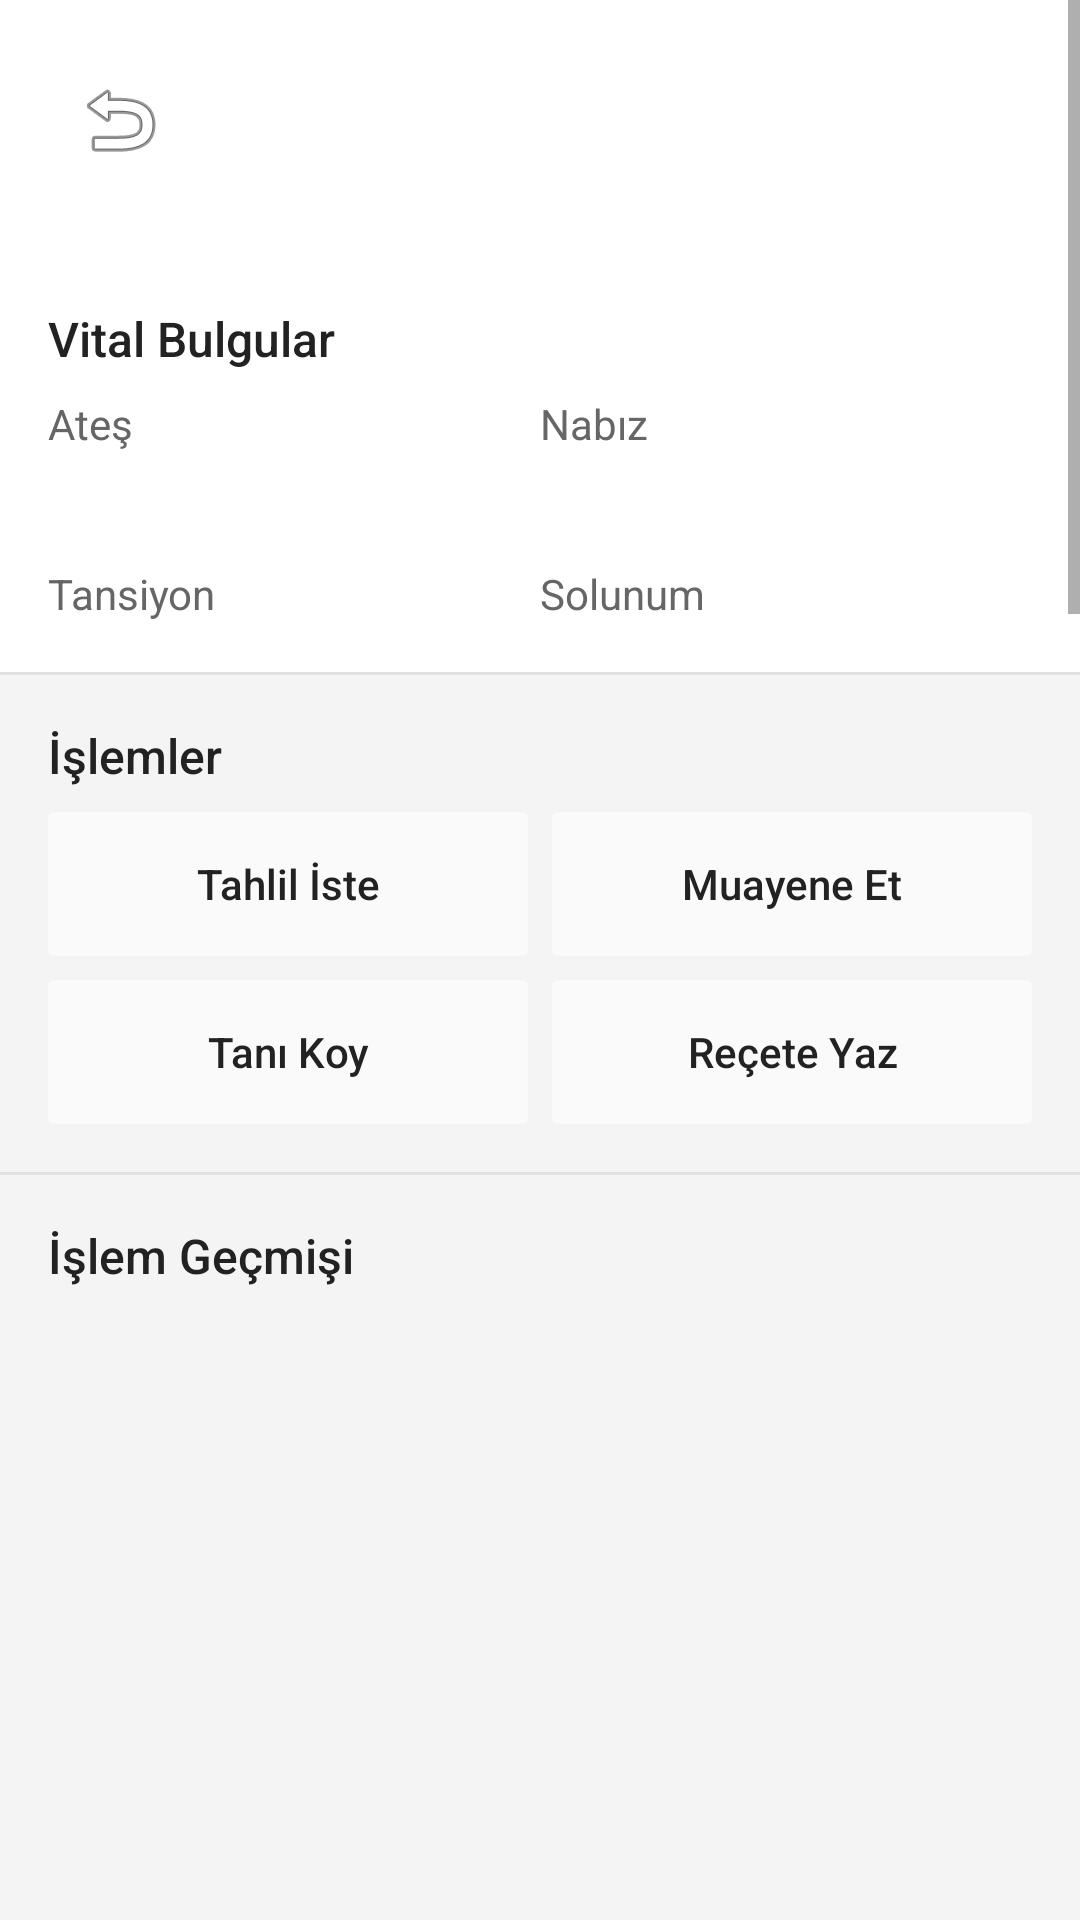

Named icons in this screenshot (1080px x 1920px) and their bounding boxes, Rect(x1, y1, x2, y2):
Geri: Rect(87, 89, 156, 152)
